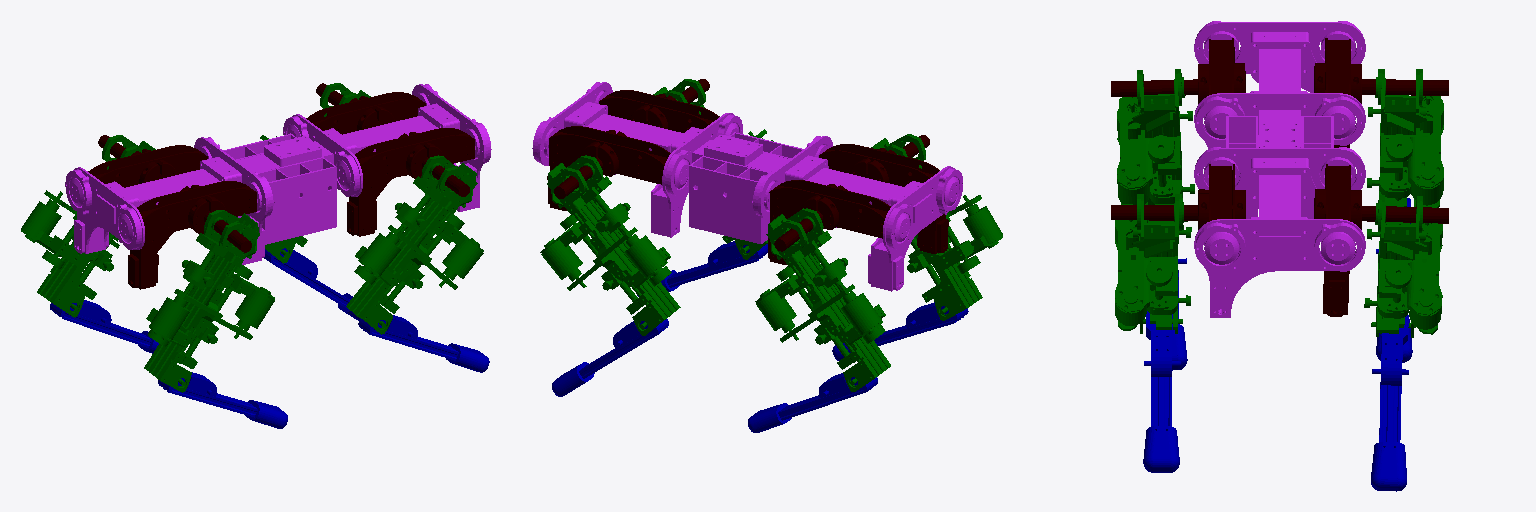
URDF robot description (opendog):
<?xml version="1.0" ?>
<robot name="opendog">

<gazebo>
  <plugin name="gazebo_ros_control" filename="libgazebo_ros_control.so">
   <robotNamespace>/opendog</robotNamespace>
  </plugin>
</gazebo>

  <link name="base_link">
    <inertial>
      <origin xyz="0.0146925753707255 -2.32783997689001E-07 -0.0620003566767632" rpy="0 0 0" />
      <mass value="7.50050303907628" />
      <inertia
        ixx="0.0329067626307138"
        ixy="0.0145256752484318"
        ixz="-0.00262898937356677"
        iyy="0.324694201481025"
        iyz="8.6440436464913E-08"
        izz="0.3401479131296" />
    </inertial>
    <visual>
      <origin xyz="0 0 0" rpy="0 0 0" />
      <geometry>
        <mesh filename="meshes/base_link.STL" />
      </geometry>
      <material name="base">
        <color rgba="0.79 0.2 0.93 1" />
      </material>
    </visual>
    <collision>
      <origin
        xyz="0 0 0"
        rpy="0 0 0" />
      <geometry>
        <mesh filename="meshes/base_link.STL" />
      </geometry>
    </collision>
  </link>

  <link name="lf_hip">
    <inertial>
      <origin xyz="0.206139391007352 0.0113727026365967 -0.0186282798260052" rpy="0 0 0" />
      <mass value="1.29407279885193" />
      <inertia
        ixx="0.00300672363695354"
        ixy="0.000279956457563162"
        ixz="0.00219380954236559"
        iyy="0.00473624583525706"
        iyz="-0.000278492304960671"
        izz="0.00444577132964834" />
    </inertial>
    <visual>
      <origin xyz="0 0 0" rpy="0 0 0" />
      <geometry>
        <mesh filename="meshes/lf_hip.STL" />
      </geometry>
      <material name="dred">
        <color rgba="0.2 0.0 0.0 1" />
      </material>
    </visual>
    <collision>
      <origin xyz="0 0 0" rpy="0 0 0" />
      <geometry>
        <mesh filename="meshes/lf_hip.STL" />
      </geometry>
    </collision>
  </link>
  
  <joint name="lf_hip_joint" type="revolute">
    <origin
      xyz="0.12725 0.11015 -0.0402500002980233"
      rpy="-0.0312716864214877 -2.31194431024223E-16 0" />
    <parent link="base_link" />
    <child link="lf_hip" />
    <axis xyz="1 0 0" />
    <limit effort="30" velocity="1.0" lower="-0.2" upper="0.2" />
    <dynamics damping="0.7" friction="1.0" />
  </joint>

  <link name="lf_upperleg">
    <inertial>
      <origin xyz="-0.14026071186531 -0.145897350328308 -0.0866287296834724" rpy="0 0 0" />
      <mass value="1.99709298869724" />
      <inertia
        ixx="0.0178522819140482"
        ixy="-0.000417486136867743"
        ixz="-0.000174817808114832"
        iyy="0.00725617205054363"
        iyz="0.000753747543548694"
        izz="0.0140200357809471" />
    </inertial>
    <visual>
      <origin xyz="0 0 0" rpy="0 0 0" />
      <geometry>
        <mesh filename="meshes/lf_upperleg.STL" />
      </geometry>
      <material name="dgreen">
        <color rgba="0.0 0.4 0.0 1" />
      </material>
    </visual>
    <collision>
      <origin xyz="0 0 0" rpy="0 0 0" />
      <geometry>
        <mesh filename="meshes/lf_upperleg.STL" />
      </geometry>
    </collision>
  </link>
  
  <joint name="lf_upperleg_joint" type="revolute">
    <origin xyz="0.1875 -0.0067843 0" rpy="0.53639 5.5511E-16 -1.5708" />
    <parent link="lf_hip" />
    <child link="lf_upperleg" />
    <axis xyz="-1 0 0" />
    <dynamics damping="1.0" friction="1.0"/>
    <limit effort="30" velocity="1.0" lower="-0.2" upper="0.2" />
    <dynamics damping="0.7" friction="1.0" />
  </joint>

  <link name="lf_lowerleg">
    <inertial>
      <origin xyz="-0.0841961666836097 -0.111586779603519 -0.103991209798406" rpy="0 0 0" />
      <mass value="0.517872437395086" />
      <inertia
        ixx="0.00480929241655381"
        ixy="3.22137831183176E-05"
        ixz="2.82581039098233E-05"
        iyy="0.00230896942537742"
        iyz="-0.00238100033014549"
        izz="0.00250151457928357" />
    </inertial>
    <visual>
      <origin xyz="0 0 0" rpy="0 0 0" />
      <geometry>
        <mesh filename="meshes/lf_lowerleg.STL" />
      </geometry>
      <material name="dblue">
        <color rgba="0.0 0.0 0.7 1" />
      </material>
    </visual>
    <collision>
      <origin xyz="0 0 0" rpy="0 0 0" />
      <geometry>
        <mesh filename="meshes/lf_lowerleg.STL" />
      </geometry>
       <surface>
        <friction>
          <ode>
            <mu>100.0</mu>
            <mu2>100.0</mu2>
          </ode>
        </friction>
      </surface>
    </collision>
  </link>

  <joint name="lf_lowerleg_joint" type="revolute">
    <origin xyz="-0.036327 -0.31067 -0.17972" rpy="1.2469 -6.6613E-16 1.36E-15" />
    <parent link="lf_upperleg" />
    <child link="lf_lowerleg" />
    <axis xyz="-1 0 0" />
    <limit effort="30" velocity="1.0" lower="-0.2" upper="0.2" />
    <dynamics damping="0.7" friction="1.0" />
  </joint>

  <link name="rf_hip">
    <inertial>
      <origin xyz="0.147048151306843 -0.0117894282365432 -0.0186949790750277" rpy="0 0 0" />
      <mass value="1.31260778257106" />
      <inertia
        ixx="0.00297889838902065"
        ixy="0.000632756157402181"
        ixz="-0.00237042295251855"
        iyy="0.00528682887814262"
        iyz="0.00027007218401832"
        izz="0.00504189542831131" />
    </inertial>
    <visual>
      <origin xyz="0 0 0" rpy="0 0 0" />
      <geometry>
        <mesh filename="meshes/rf_hip.STL" />
      </geometry>
      <material name="dred">
        <color rgba="0.2 0.0 0.0 1" />
      </material>
    </visual>
    <collision>
      <origin xyz="0 0 0" rpy="0 0 0" />
      <geometry>
        <mesh filename="meshes/rf_hip.STL" />
      </geometry>
    </collision>
  </link>

  <joint name="rf_hip_joint" type="revolute">
    <origin xyz="0.12725 -0.11015 -0.04025" rpy="-0.0024962 -2.3119E-16 0" />
    <parent link="base_link" />
    <child link="rf_hip" />
    <axis xyz="1 0 0" />
    <limit effort="30" velocity="1.0" lower="-0.2" upper="0.2" />
    <dynamics damping="0.7" friction="1.0" />
  </joint>

  <link name="rf_upperleg">
    <inertial>
      <origin xyz="-0.133628467398785 -0.162488031463387 0.0486169366921988" rpy="0 0 0" />
      <mass value="1.97849427273776" />
      <inertia
        ixx="0.0177862556152254"
        ixy="-0.000449816128990764"
        ixz="6.84609806285059E-05"
        iyy="0.0079887226695027"
        iyz="-0.00227974326372488"
        izz="0.0131967613985927" />
    </inertial>
    <visual>
      <origin xyz="0 0 0" rpy="0 0 0" />
      <geometry>
        <mesh filename="meshes/rf_upperleg.STL" />
      </geometry>
      <material name="dgreen">
        <color rgba="0.0 0.4 0.0 1" />
      </material>
    </visual>
    <collision>
      <origin xyz="0 0 0" rpy="0 0 0" />
      <geometry>
        <mesh filename="meshes/rf_upperleg.STL" />
      </geometry>
    </collision>
  </link>

  <joint name="rf_upperleg_joint" type="revolute">
    <origin xyz="0.1875 0 0" rpy="2.37324114934713 1.94289029309402E-16 1.5707963267949" />
    <parent link="rf_hip" />
    <child link="rf_upperleg" />
    <axis xyz="1 0 0" />
    <limit effort="30" velocity="1.0" lower="-0.2" upper="0.2" />
    <dynamics damping="0.7" friction="1.0" />
  </joint>

  <link name="rf_lowerleg">
    <inertial>
      <origin xyz="-0.0942678335224335 -0.11438115082609 0.100958934418855" rpy="0 0 0" />
      <mass value="0.517767036542794" />
      <inertia
        ixx="0.00480685472285392"
        ixy="3.29278427633523E-05"
        ixz="-2.73356037554584E-05"
        iyy="0.00217881170361675"
        iyz="0.00237102005421024"
        izz="0.00262923241964085" />
    </inertial>
    <visual>
      <origin xyz="0 0 0" rpy="0 0 0" />
      <geometry>
        <mesh filename="meshes/rf_lowerleg.STL" />
      </geometry>
      <material name="dblue">
        <color rgba="0.0 0.0 0.7 1" />
      </material>
    </visual>
    <collision>
      <origin xyz="0 0 0" rpy="0 0 0" />
      <geometry>
        <mesh filename="meshes/rf_lowerleg.STL" />
      </geometry>
       <surface>
        <friction>
          <ode>
            <mu>100.0</mu>
            <mu2>100.0</mu2>
          </ode>
        </friction>
      </surface>
    </collision>
  </link>

  <joint name="rf_lowerleg_joint" type="revolute">
    <origin xyz="-0.0194699194772098 -0.3449998 0.0989375976332662" rpy="-1.05391222064566 1.11022302462516E-16 4.44089209850063E-16" />
    <parent link="rf_upperleg" />
    <child link="rf_lowerleg" />
    <axis xyz="1 0 0" />
    <limit effort="30" velocity="1.0" lower="-0.2" upper="0.2" />
    <dynamics damping="0.7" friction="1.0" />
  </joint>

  <link name="lb_hip">
    <inertial>
      <origin xyz="-0.1388606089949 0.0113727026302812 -0.0186282798249506" rpy="0 0 0" />
      <mass value="1.2940727989479" />
      <inertia
        ixx="0.00300672363731876"
        ixy="0.000279956457431885"
        ixz="0.00219380954241839"
        iyy="0.00473624583534201"
        iyz="-0.000278492304808429"
        izz="0.00444577133007972" />
    </inertial>
    <visual>
      <origin xyz="0 0 0" rpy="0 0 0" />
      <geometry>
        <mesh filename="meshes/lb_hip.STL" />
      </geometry>
      <material name="dred">
        <color rgba="0.2 0.0 0.0 1" />
      </material>
    </visual>
    <collision>
      <origin xyz="0 0 0" rpy="0 0 0" />
      <geometry>
        <mesh filename="meshes/lb_hip.STL" />
      </geometry>
    </collision>
  </link>

  <joint name="lb_hip_joint" type="revolute">
    <origin xyz="-0.09275 0.11015 -0.04025" rpy="-0.013144 -2.3119E-16 0" />
    <parent link="base_link" />
    <child link="lb_hip" />
    <axis xyz="1 0 0" />
    <limit effort="30" velocity="1.0" lower="-0.2" upper="0.2" />
    <dynamics damping="0.7" friction="1.0" />
  </joint>

  <link name="lb_upperleg">
    <inertial>
      <origin xyz="-0.155362482214265 -0.162561779303306 -0.0486234661189762" rpy="0 0 0" />
      <mass value="1.99709298565448" />
      <inertia
        ixx="0.0178522818686579"
        ixy="-0.000447434633476266"
        ixz="-6.8250948714299E-05"
        iyy="0.00800967976641392"
        iyz="0.00225765032495757"
        izz="0.0132665280240321" />
    </inertial>
    <visual>
      <origin xyz="0 0 0" rpy="0 0 0" />
      <geometry>
        <mesh filename="meshes/lb_upperleg.STL" />
      </geometry>
      <material name="dgreen">
        <color rgba="0.0 0.4 0.0 1" />
      </material>
    </visual>
    <collision>
      <origin xyz="0 0 0" rpy="0 0 0" />
      <geometry>
        <mesh filename="meshes/lb_upperleg.STL" />
      </geometry>
    </collision>
  </link>

  <joint name="lb_upperleg_joint" type="revolute">
    <origin xyz="-0.1575 -0.0218860343925495 0" rpy="0.853532347704987 1.69309011255336E-15 -1.5707963267949" />
    <parent link="lb_hip" />
    <child link="lb_upperleg" />
    <axis xyz="-1 0 0" />
    <limit effort="30" velocity="1.0" lower="-0.2" upper="0.2" />
    <dynamics damping="0.7" friction="1.0" />
  </joint>
  
  <link name="lb_lowerleg">
    <inertial>
      <origin xyz="-0.0929078835580175 -0.122424353782922 -0.0909838234681657" rpy="0 0 0" />
      <mass value="0.51787240839959" />
      <inertia
        ixx="0.00480929178404235"
        ixy="3.51469446486784E-05"
        ixz="2.45137702500061E-05"
        iyy="0.00178682948739438"
        iyz="-0.00230130305704765"
        izz="0.00302365388096736" />
    </inertial>
    <visual>
      <origin xyz="0 0 0" rpy="0 0 0" />
      <geometry>
        <mesh filename="meshes/lb_lowerleg.STL" />
      </geometry>
      <material name="dblue">
        <color rgba="0.0 0.0 0.7 1" />
      </material>
    </visual>
    <collision>
      <origin xyz="0 0 0" rpy="0 0 0" />
      <geometry>
        <mesh filename="meshes/lb_lowerleg.STL" />
      </geometry>
       <surface>
        <friction>
          <ode>
            <mu>100.0</mu>
            <mu2>100.0</mu2>
          </ode>
        </friction>
      </surface>
    </collision>
  </link>

  <joint name="lb_lowerleg_joint" type="revolute">
    <origin xyz="-0.0427168001472368 -0.3449998 -0.0989375976332639" rpy="1.02808696809058 1.17961196366423E-15 0" />
    <parent link="lb_upperleg" />
    <child link="lb_lowerleg" />
    <axis xyz="-1 0 0" />
    <limit effort="30" velocity="1.0" lower="-0.2" upper="0.2" />
    <dynamics damping="0.7" friction="1.0" />
  </joint>

  <link name="rb_hip">
    <inertial>
      <origin xyz="-0.197951848727426 -0.011789428219475 -0.0186949790745794" rpy="0 0 0" />
      <mass value="1.31260778161674" />
      <inertia
        ixx="0.00297889838847175"
        ixy="0.000632756156394369"
        ixz="-0.00237042295242676"
        iyy="0.0052868288763741"
        iyz="0.000270072183992474"
        izz="0.00504189542537898" />
    </inertial>
    <visual>
      <origin xyz="0 0 0" rpy="0 0 0" />
      <geometry>
        <mesh
          filename="meshes/rb_hip.STL" />
      </geometry>
      <material name="dred">
        <color rgba="0.2 0.0 0.0 1" />
      </material>
    </visual>
    <collision>
      <origin xyz="0 0 0" rpy="0 0 0" />
      <geometry>
        <mesh filename="meshes/rb_hip.STL" />
      </geometry>
    </collision>
  </link>

  <joint name="rb_hip_joint" type="revolute">
    <origin xyz="-0.09275 -0.11015 -0.0402500002980231" rpy="0.0264641395628229 -2.31194431024223E-16 0" />
    <parent link="base_link" />
    <child link="rb_hip" />
    <axis xyz="1 0 0" />
    <limit effort="30" velocity="1.0" lower="-0.2" upper="0.2" />
    <dynamics damping="0.7" friction="1.0" />
  </joint>

  <link name="rb_upperleg">
    <inertial>
      <origin xyz="-0.133628467244866 -0.162488031755644 0.0486169350227676" rpy="0 0 0" />
      <mass value="1.97849425051924" />
      <inertia
        ixx="0.0177862553816508"
        ixy="-0.000449816152751435"
        ixz="6.84610936050734E-05"
        iyy="0.00798872258305596"
        iyz="-0.00227974318574354"
        izz="0.0131967612321745" />
    </inertial>
    <visual>
      <origin xyz="0 0 0" rpy="0 0 0" />
      <geometry>
        <mesh filename="meshes/rb_upperleg.STL" />
      </geometry>
      <material name="dgreen">
        <color rgba="0.0 0.4 0.0 1" />
      </material>
    </visual>
    <collision>
      <origin xyz="0 0 0" rpy="0 0 0" />
      <geometry>
        <mesh filename="meshes/rb_upperleg.STL" />
      </geometry>
    </collision>
  </link>

  <joint name="rb_upperleg_joint" type="revolute">
    <origin xyz="-0.1575 0 0" rpy="2.21660126749357 1.97064586870965E-15 1.5707963267949" />
    <parent link="rb_hip" />
    <child link="rb_upperleg" />
    <axis xyz="1 0 0" />
    <limit effort="30" velocity="1.0" lower="-0.2" upper="0.2" />
    <dynamics damping="0.7" friction="1.0" />
  </joint>

  <link name="rb_lowerleg">
    <inertial>
      <origin xyz="-0.106105013771209 -0.121605431885754 0.092129655679019" rpy="0 0 0" />
      <mass value="0.517767043602124" />
      <inertia
        ixx="0.00480685478586608"
        ixy="3.48785418068089E-05"
        ixz="-2.47987883971276E-05"
        iyy="0.00182797294270112"
        iyz="0.00231097886469285"
        izz="0.00298007124712522" />
    </inertial>
    <visual>
      <origin xyz="0 0 0" rpy="0 0 0" />
      <geometry>
        <mesh filename="meshes/rb_lowerleg.STL" />
      </geometry>
      <material name="dblue">
        <color rgba="0.0 0.0 0.7 1" />
      </material>
    </visual>
    <collision>
      <origin xyz="0 0 0" rpy="0 0 0" />
      <geometry>
        <mesh filename="meshes/rb_lowerleg.STL" />
      </geometry>
       <surface>
        <friction>
          <ode>
            <mu>100.0</mu>
            <mu2>100.0</mu2>
          </ode>
        </friction>
      </surface>
    </collision>
  </link>

  <joint name="rb_lowerleg_joint" type="revolute">
    <origin xyz="-0.00763273689589838 -0.344999799999999 0.0989375976332641" rpy="-0.978531986560699 -1.70696790036118E-15 -1.22124532708767E-15" />
    <parent link="rb_upperleg" />
    <child link="rb_lowerleg" />
    <axis xyz="1 0 0" />
    <limit effort="30" velocity="1.0" lower="-0.2" upper="0.2" />
    <dynamics damping="0.7" friction="1.0" />
  </joint>

<!-- Transmissions for gazebo implementation -->
<transmission name="lb_hip_trans">
  <type>transmission_interface/SimpleTransmission</type>
  <joint name="lb_hip_joint">
    <hardwareInterface>hardware_interface/EffortJointInterface</hardwareInterface>
  </joint>
  <actuator name="lb_hip_motor">
    <mechanicalReduction>1</mechanicalReduction>
    <hardwareInterface>hardware_interface/EffortJointInterface</hardwareInterface>
  </actuator>
</transmission>
<transmission name="lb_upperleg_trans">
  <type>transmission_interface/SimpleTransmission</type>
  <joint name="lb_upperleg_joint">
    <hardwareInterface>hardware_interface/EffortJointInterface</hardwareInterface>
  </joint>
  <actuator name="lb_upperleg_motor">
    <mechanicalReduction>1</mechanicalReduction>
    <hardwareInterface>hardware_interface/EffortJointInterface</hardwareInterface>
  </actuator>
</transmission>
<transmission name="lb_lowerleg_trans">
  <type>transmission_interface/SimpleTransmission</type>
  <joint name="lb_lowerleg_joint">
    <hardwareInterface>hardware_interface/EffortJointInterface</hardwareInterface>
  </joint>
  <actuator name="lb_lowerleg_motor">
    <mechanicalReduction>1</mechanicalReduction>
    <hardwareInterface>hardware_interface/EffortJointInterface</hardwareInterface>
  </actuator>
</transmission>

<transmission name="lf_hip_trans">
  <type>transmission_interface/SimpleTransmission</type>
  <joint name="lf_hip_joint">
    <hardwareInterface>hardware_interface/EffortJointInterface</hardwareInterface>
  </joint>
  <actuator name="lf_hip_motor">
    <mechanicalReduction>1</mechanicalReduction>
    <hardwareInterface>hardware_interface/EffortJointInterface</hardwareInterface>
  </actuator>
</transmission>
<transmission name="lf_upperleg_trans">
  <type>transmission_interface/SimpleTransmission</type>
  <joint name="lf_upperleg_joint">
    <hardwareInterface>hardware_interface/EffortJointInterface</hardwareInterface>
  </joint>
  <actuator name="lf_upperleg_motor">
    <mechanicalReduction>1</mechanicalReduction>
    <hardwareInterface>hardware_interface/EffortJointInterface</hardwareInterface>
  </actuator>
</transmission>
<transmission name="lf_lowerleg_trans">
  <type>transmission_interface/SimpleTransmission</type>
  <joint name="lf_lowerleg_joint">
    <hardwareInterface>hardware_interface/EffortJointInterface</hardwareInterface>
  </joint>
  <actuator name="lf_lowerleg_motor">
    <mechanicalReduction>1</mechanicalReduction>
    <hardwareInterface>hardware_interface/EffortJointInterface</hardwareInterface>
  </actuator>
</transmission>

<transmission name="rb_hip_trans">
  <type>transmission_interface/SimpleTransmission</type>
  <joint name="rb_hip_joint">
    <hardwareInterface>hardware_interface/EffortJointInterface</hardwareInterface>
  </joint>
  <actuator name="rb_hip_motor">
    <mechanicalReduction>1</mechanicalReduction>
    <hardwareInterface>hardware_interface/EffortJointInterface</hardwareInterface>
  </actuator>
</transmission>
<transmission name="rb_upperleg_trans">
  <type>transmission_interface/SimpleTransmission</type>
  <joint name="rb_upperleg_joint">
    <hardwareInterface>hardware_interface/EffortJointInterface</hardwareInterface>
  </joint>
  <actuator name="rb_upperleg_motor">
    <mechanicalReduction>1</mechanicalReduction>
    <hardwareInterface>hardware_interface/EffortJointInterface</hardwareInterface>
  </actuator>
</transmission>
<transmission name="rb_lowerleg_trans">
  <type>transmission_interface/SimpleTransmission</type>
  <joint name="rb_lowerleg_joint">
    <hardwareInterface>hardware_interface/EffortJointInterface</hardwareInterface>
  </joint>
  <actuator name="rb_lowerleg_motor">
    <mechanicalReduction>1</mechanicalReduction>
    <hardwareInterface>hardware_interface/EffortJointInterface</hardwareInterface>
  </actuator>
</transmission>

<transmission name="rf_hip_trans">
  <type>transmission_interface/SimpleTransmission</type>
  <joint name="rf_hip_joint">
    <hardwareInterface>hardware_interface/EffortJointInterface</hardwareInterface>
  </joint>
  <actuator name="rf_hip_motor">
    <mechanicalReduction>1</mechanicalReduction>
    <hardwareInterface>hardware_interface/EffortJointInterface</hardwareInterface>
  </actuator>
</transmission>
<transmission name="rf_upperleg_trans">
  <type>transmission_interface/SimpleTransmission</type>
  <joint name="rf_upperleg_joint">
    <hardwareInterface>hardware_interface/EffortJointInterface</hardwareInterface>
  </joint>
  <actuator name="rf_upperleg_motor">
    <mechanicalReduction>1</mechanicalReduction>
    <hardwareInterface>hardware_interface/EffortJointInterface</hardwareInterface>
  </actuator>
</transmission>
<transmission name="rf_lowerleg_trans">
  <type>transmission_interface/SimpleTransmission</type>
  <joint name="rf_lowerleg_joint">
    <hardwareInterface>hardware_interface/EffortJointInterface</hardwareInterface>
  </joint>
  <actuator name="rf_lowerleg_motor">
    <mechanicalReduction>1</mechanicalReduction>
    <hardwareInterface>hardware_interface/EffortJointInterface</hardwareInterface>
  </actuator>
</transmission>



</robot>

--- Facts derived from the render (not from the file) ---
3 views of the same robot in one strip: view 1: azimuth 30°, elevation 25°; view 2: azimuth 150°, elevation 25°; view 3: azimuth 270°, elevation 25° (orthographic).
Robot: opendog — 13 links, 12 joints (12 revolute); root link base_link; default pose: every joint at zero.
Visible links, largest first — view 1: base_link, rb_upperleg, rf_upperleg, rb_hip, rf_hip, lb_upperleg, lb_hip, lf_hip, rf_lowerleg, rb_lowerleg, lb_lowerleg, lf_lowerleg (+1 smaller); view 2: base_link, lb_upperleg, lf_upperleg, rb_upperleg, lf_hip, lb_hip, rb_hip, rf_hip, lb_lowerleg, lf_lowerleg, rf_lowerleg, rb_lowerleg (+1 smaller); view 3: base_link, lf_upperleg, lb_upperleg, rb_upperleg, rf_upperleg, lf_hip, lf_lowerleg, rf_lowerleg, lb_hip, rf_hip, rb_hip, rb_lowerleg.
Link boxes in pixels (x1,y1,x2,y2): base_link: (65, 84, 491, 264); rb_upperleg: (144, 210, 274, 392); rf_upperleg: (346, 155, 483, 334); rb_hip: (128, 181, 256, 289); rf_hip: (347, 128, 474, 236); lb_upperleg: (21, 135, 155, 317); lb_hip: (88, 135, 207, 228); lf_hip: (306, 83, 425, 175); rf_lowerleg: (358, 315, 489, 372); rb_lowerleg: (158, 372, 287, 428); lb_lowerleg: (50, 300, 158, 353); lf_lowerleg: (264, 248, 359, 320); base_link: (532, 82, 962, 291); lb_upperleg: (755, 208, 890, 391); lf_upperleg: (540, 155, 680, 335); rb_upperleg: (871, 134, 1002, 320); lf_hip: (547, 126, 670, 210); lb_hip: (768, 180, 890, 264); rb_hip: (819, 135, 948, 253); rf_hip: (599, 79, 719, 132); lb_lowerleg: (748, 373, 877, 432); lf_lowerleg: (552, 319, 668, 396); rf_lowerleg: (637, 241, 767, 296); rb_lowerleg: (832, 302, 968, 360); base_link: (1194, 21, 1365, 317); lf_upperleg: (1364, 195, 1442, 337); lb_upperleg: (1367, 69, 1443, 207); rb_upperleg: (1117, 69, 1194, 229); rf_upperleg: (1115, 194, 1191, 333); lf_hip: (1314, 164, 1448, 316); lf_lowerleg: (1371, 315, 1408, 491); rf_lowerleg: (1143, 311, 1180, 472); lb_hip: (1314, 38, 1448, 147); rf_hip: (1111, 164, 1245, 229); rb_hip: (1111, 38, 1245, 103); rb_lowerleg: (1172, 258, 1187, 370).
Size in the robot's own frame: 0.9675 by 0.641 by 0.6088 metres.
Meshes: 13 distinct files referenced, 13 mesh visuals loaded (13 binary STL).
